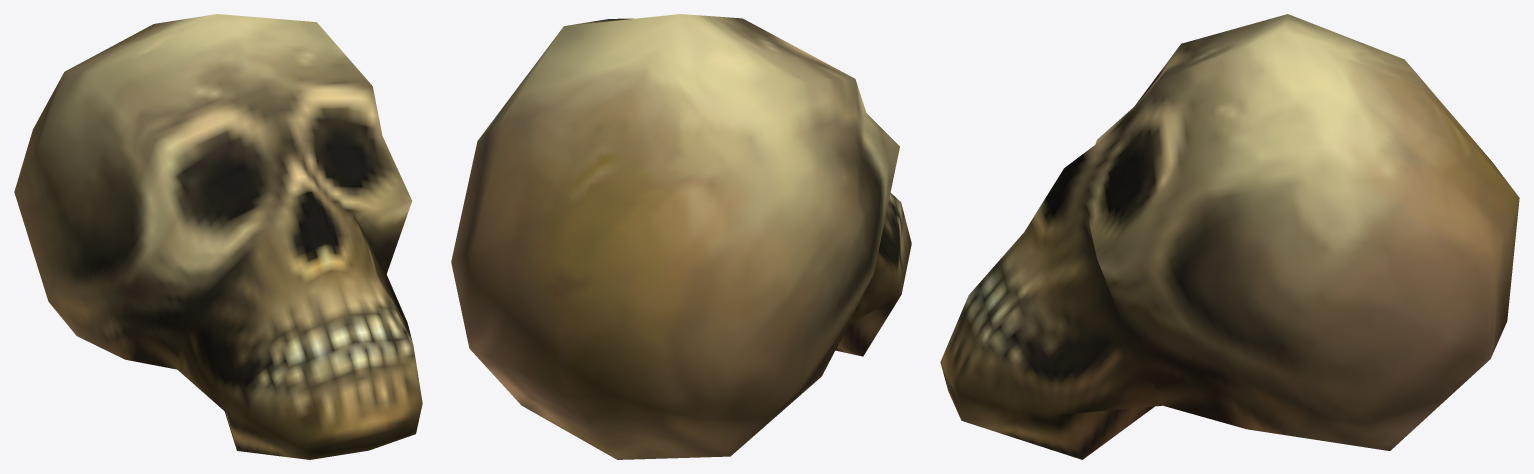
File: dsj_kulong03.FBX
3 views of the same model, side by side, from view 1: azimuth 30°, elevation 25°; view 2: azimuth 150°, elevation 25°; view 3: azimuth 270°, elevation 25° (orthographic). The views are drawn at different scales.
Visible parts, largest first — view 1: dsj_kulong03; view 2: dsj_kulong03; view 3: dsj_kulong03.
Boxes of the visible parts, <box> form: dsj_kulong03: <box>14,14,422,459</box>; dsj_kulong03: <box>451,14,911,459</box>; dsj_kulong03: <box>940,14,1519,459</box>.
Bounding box in the file's own units: 26.25 × 29.52 × 39.48.
